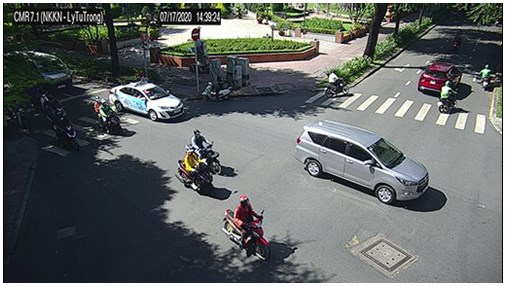xe_hoi: (294, 120, 428, 205), (418, 61, 462, 95)
xe_khach: (24, 53, 74, 92)
xe_may: (222, 195, 272, 260), (176, 145, 216, 196), (190, 129, 223, 175), (93, 95, 123, 135), (53, 114, 82, 151), (436, 81, 461, 114), (200, 77, 232, 101), (9, 100, 33, 130), (325, 69, 349, 98), (45, 99, 69, 124), (29, 85, 49, 109), (476, 64, 494, 90), (450, 33, 463, 52)
xe_taxi: (109, 82, 185, 121)
